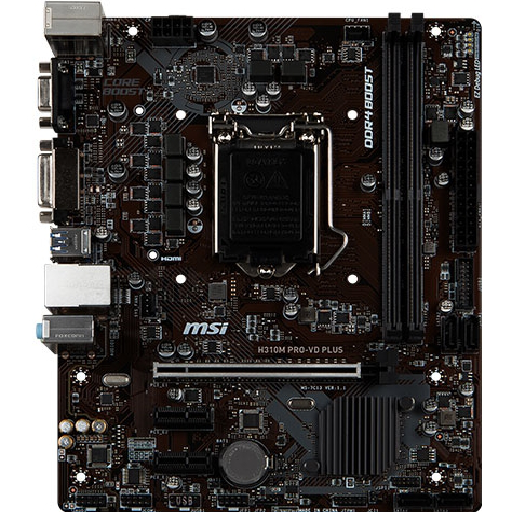CPU: (207, 114, 335, 281)
GPU: (145, 361, 396, 386)
MOTHERBOARD: (33, 3, 485, 510)
RAM: (372, 10, 437, 334)
